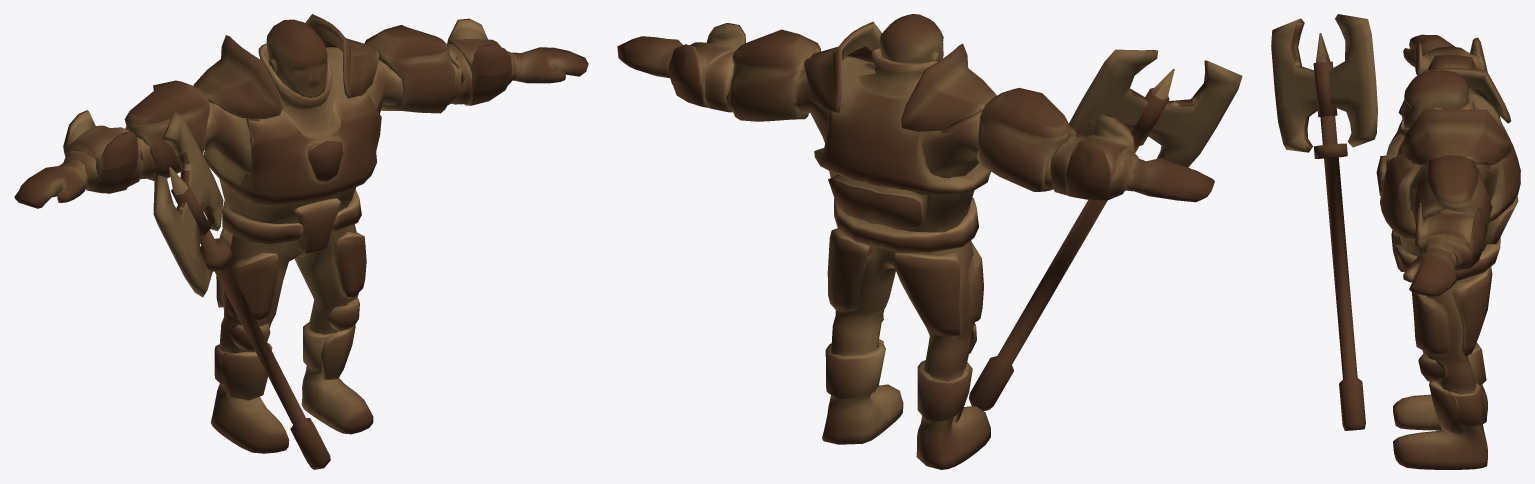
The model's file is great_statue_raban.fbx.
The picture shows the model from 3 angles, left to right: view 1: azimuth 30°, elevation 25°; view 2: azimuth 150°, elevation 25°; view 3: azimuth 270°, elevation 25°; orthographic projection. The views are drawn at different scales.
Visible parts, largest first — view 1: Raban.004, axe.004; view 2: Raban.004, axe.004; view 3: Raban.004, axe.004.
Part boxes in pixels (x1=…): Raban.004: x1=14, y1=14, x2=588, y2=453; axe.004: x1=153, y1=111, x2=330, y2=469; Raban.004: x1=617, y1=14, x2=1214, y2=469; axe.004: x1=969, y1=49, x2=1242, y2=411; Raban.004: x1=1376, y1=34, x2=1520, y2=469; axe.004: x1=1271, y1=14, x2=1377, y2=430.
Size of the model in its own units: 12284 by 8310 by 5064.
